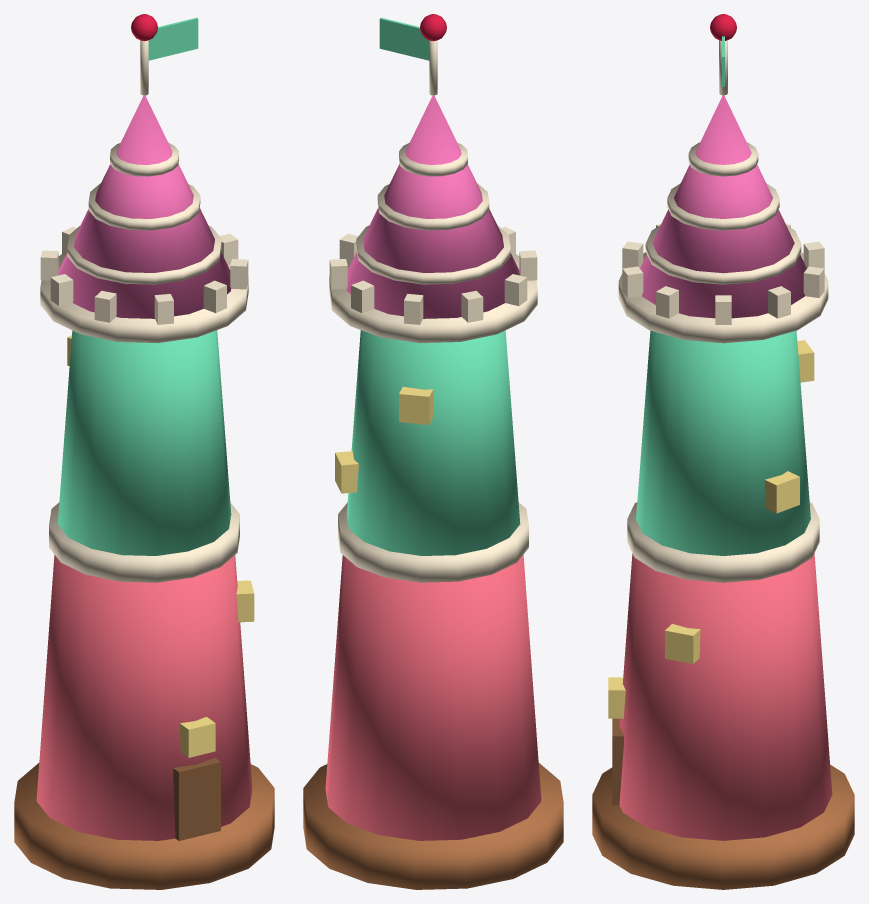
Rendered from land-tower.glb.
The picture shows the model from 3 angles, left to right: view 1: azimuth 30°, elevation 25°; view 2: azimuth 150°, elevation 25°; view 3: azimuth 270°, elevation 25°; orthographic projection.
Visible parts, largest first — view 1: land-tower; view 2: land-tower; view 3: land-tower.
Boxes of the visible parts, bbox=[...] form: land-tower: bbox=[14, 14, 274, 889]; land-tower: bbox=[303, 14, 563, 889]; land-tower: bbox=[592, 14, 854, 889].
Bounding box in the file's own units: 2.7 × 9.3 × 2.7.
1 material, 1 textured.
